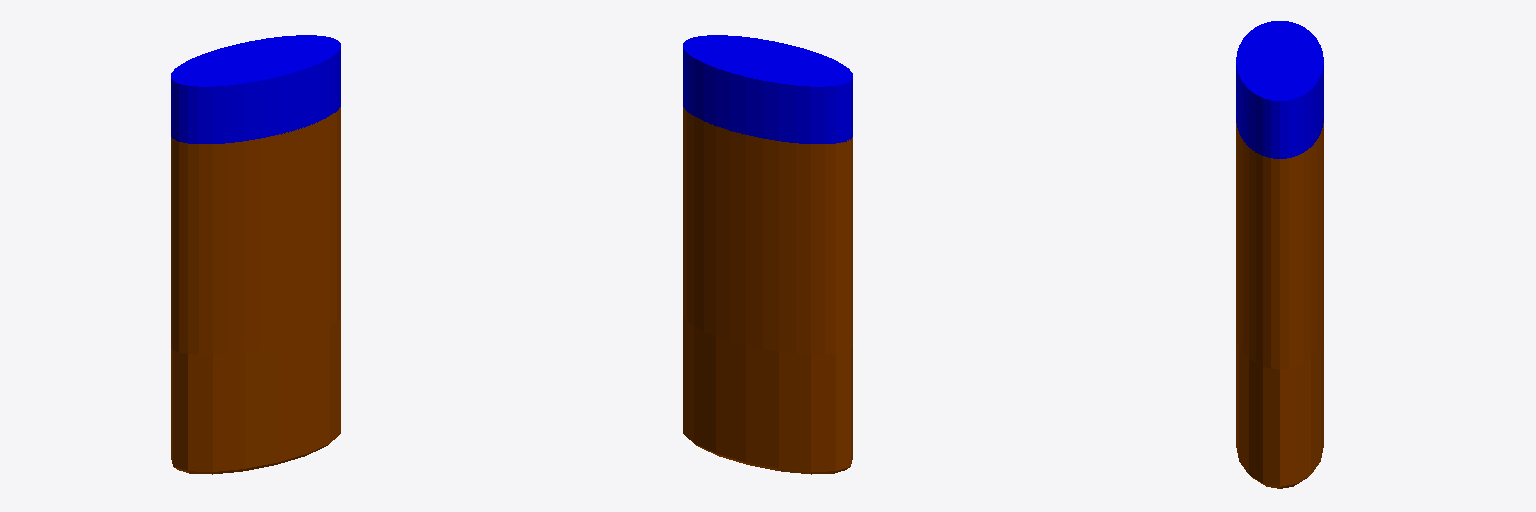
The picture shows the model from 3 angles: view 1: azimuth 30°, elevation 25°; view 2: azimuth 150°, elevation 25°; view 3: azimuth 270°, elevation 25°; orthographic projection.
Visible parts, largest first — view 1: seethome3d_window_pane_haut_3, sweethome3d_window_pane_bas_2, bouchon_4; view 2: seethome3d_window_pane_haut_3, sweethome3d_window_pane_bas_2, bouchon_4; view 3: seethome3d_window_pane_haut_3, bouchon_4, sweethome3d_window_pane_bas_2.
Part boxes in pixels (x1,y1,x2,y2): seethome3d_window_pane_haut_3: (171,107,340,354); sweethome3d_window_pane_bas_2: (171,317,340,474); bouchon_4: (171,35,340,143); seethome3d_window_pane_haut_3: (683,107,852,354); sweethome3d_window_pane_bas_2: (683,317,852,474); bouchon_4: (683,35,852,143); seethome3d_window_pane_haut_3: (1236,123,1323,369); bouchon_4: (1236,21,1323,158); sweethome3d_window_pane_bas_2: (1236,333,1323,488).
Bounding box in the file's own units: 7.4 × 16.67 × 3.4.